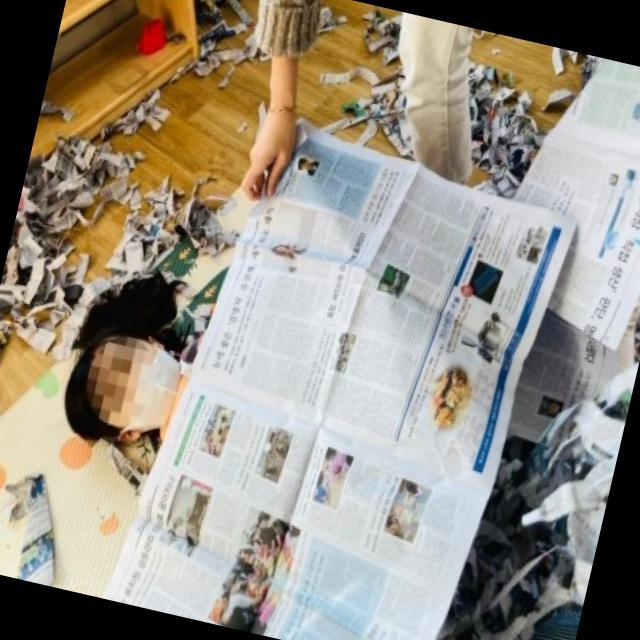reuseable_paper: (99, 115, 569, 640)
